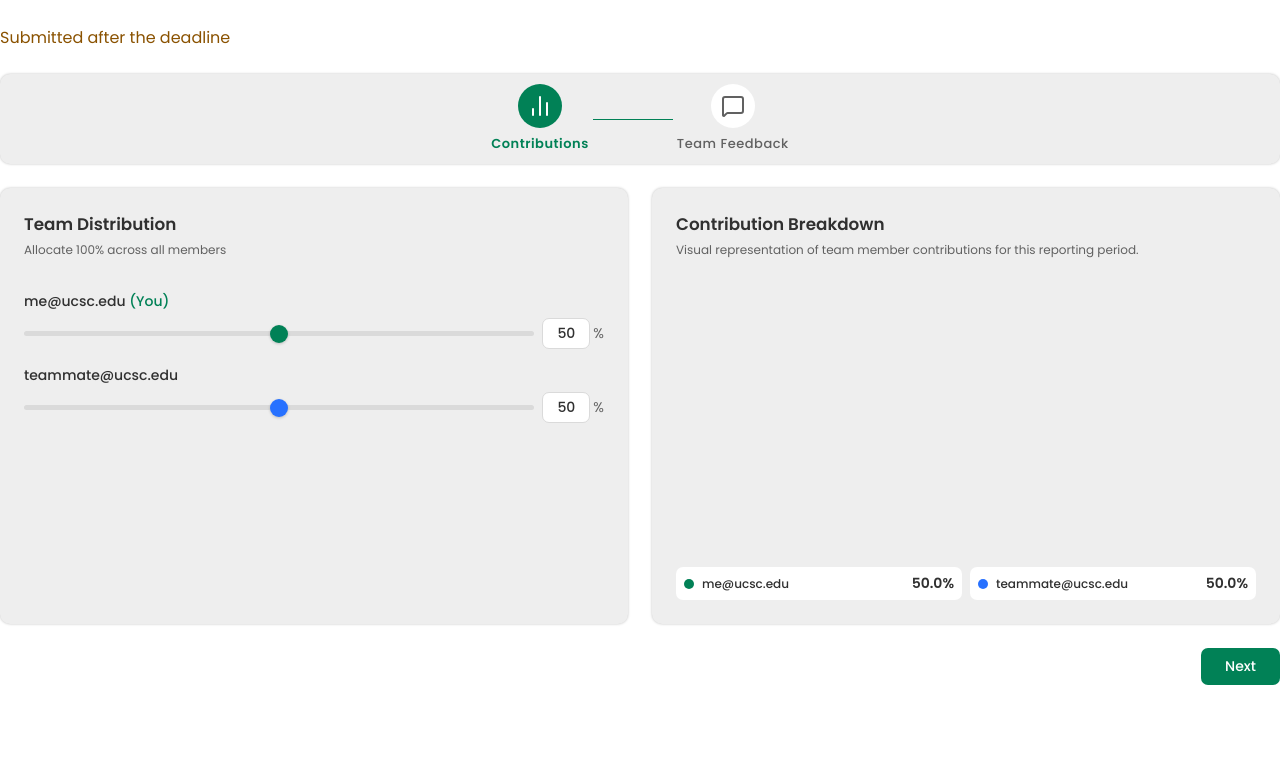
Scenario: TSRS submission window › keeps Submit enabled inside the late window, with the late note
The width and height of the screenshot is (1280, 778).
Expected: the text "Submitted after the deadline" is shown, [0,26,230,49]
Click the button "Next": coordinates (1241, 667) [1201,648,1279,685]
(page scrolled)
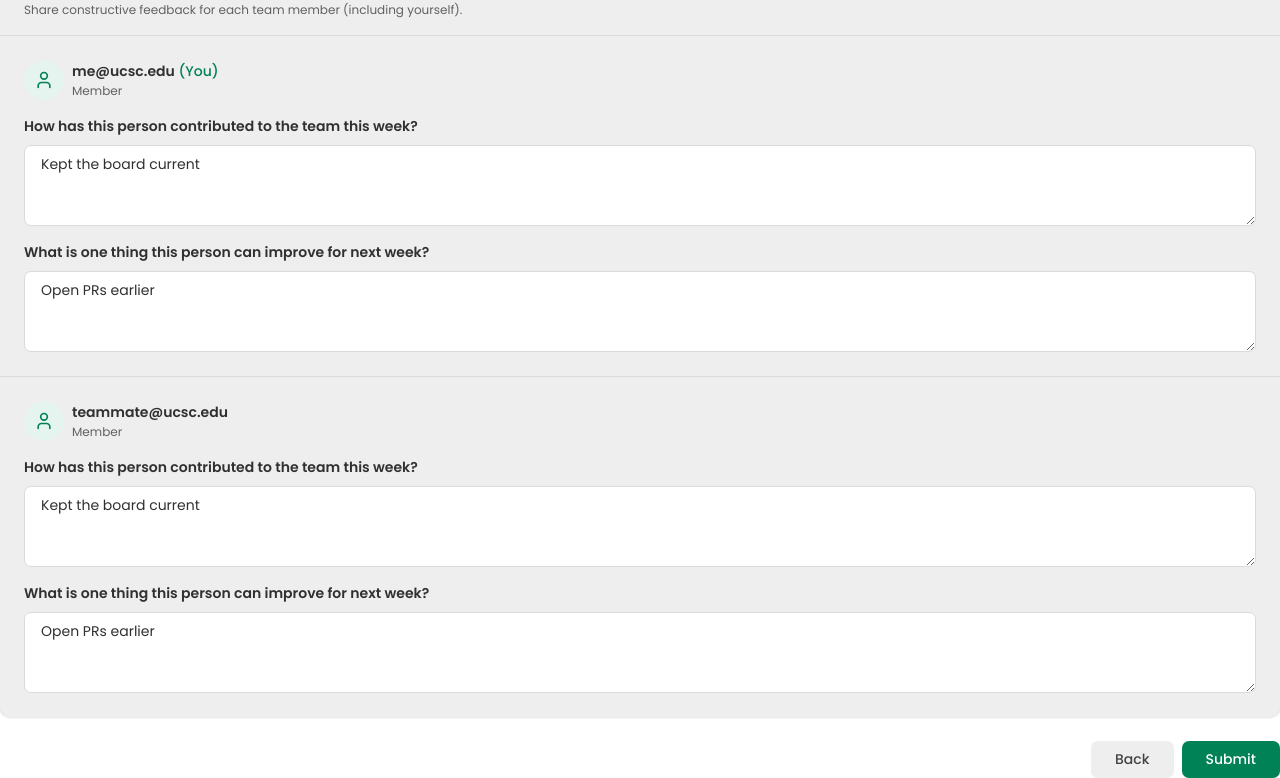
Expected: the button "Submit" is enabled, [1182,741,1279,777]
